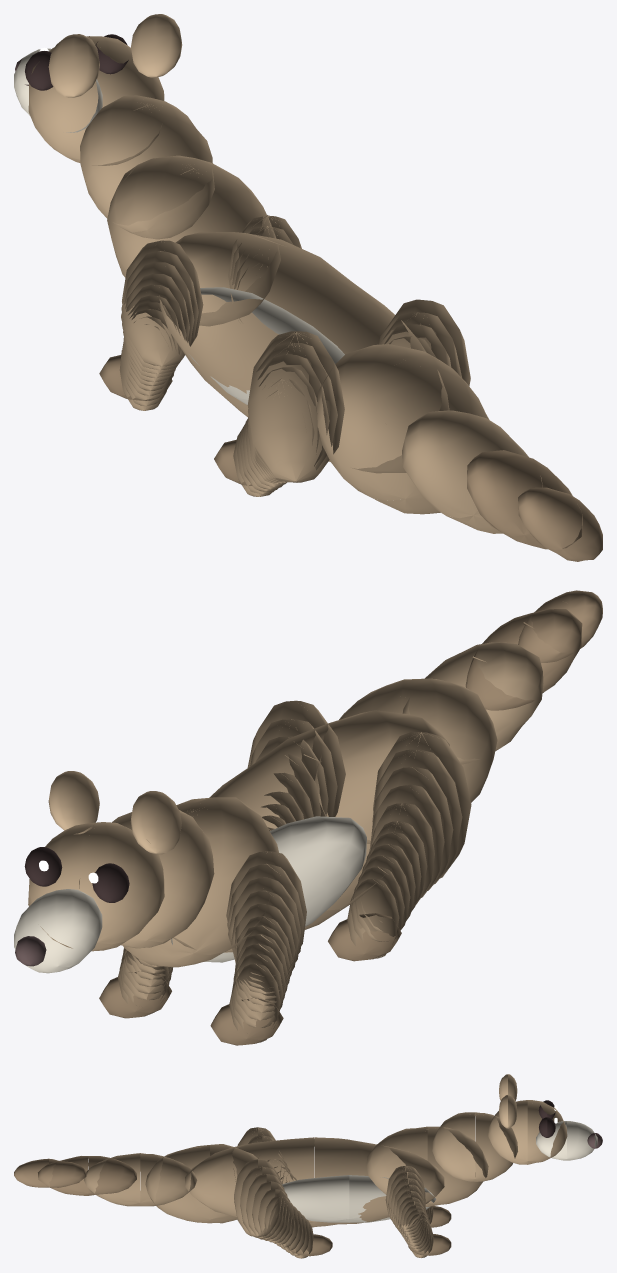
File: enemy_weasel.glb
3 renders of one model, top to bottom at view 1: azimuth 30°, elevation 25°; view 2: azimuth 150°, elevation 25°; view 3: azimuth 270°, elevation 25°, orthographic. The views are drawn at different scales.
Parts seen in each view (by area): view 1: chinchilla; view 2: chinchilla; view 3: chinchilla.
Part boxes in pixels (left/top/right/bottom): chinchilla: left=14, top=14, right=602, bottom=561; chinchilla: left=14, top=590, right=602, bottom=1045; chinchilla: left=14, top=1074, right=602, bottom=1258.
Bounding box in the file's own units: 0.288 × 0.4041 × 1.35.
